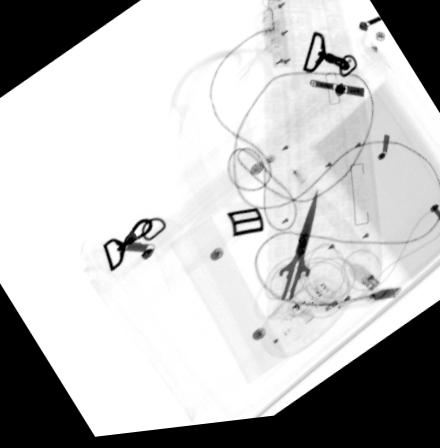Scissors: (251, 199, 321, 327)
